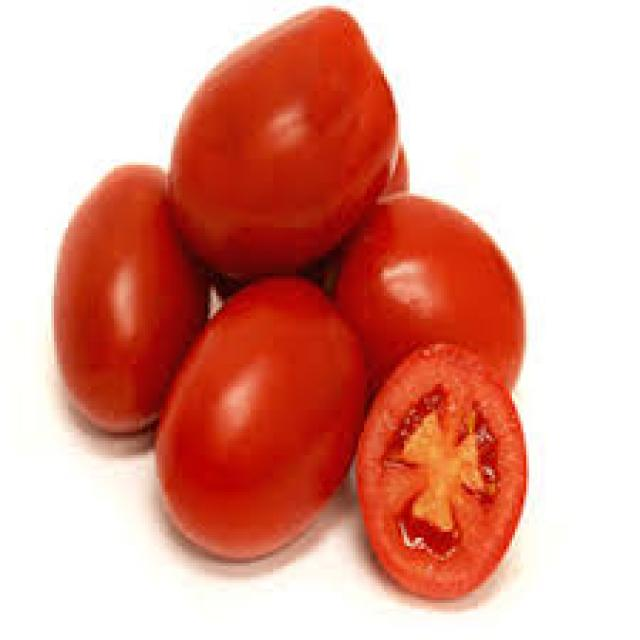Fresh_tomato: (181, 4, 373, 272), (193, 282, 346, 560), (358, 366, 550, 586), (322, 197, 552, 358), (56, 156, 195, 414)
